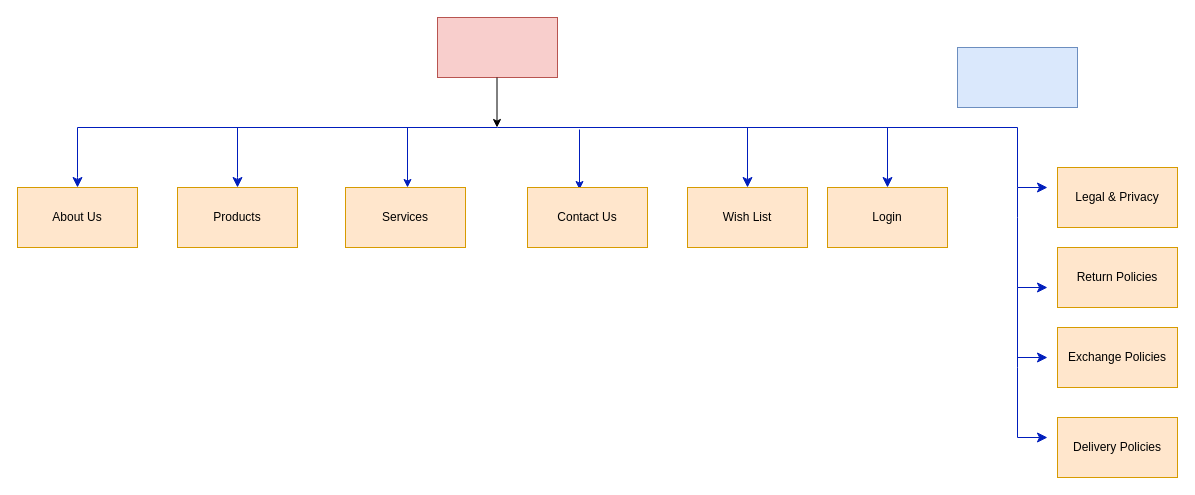
Image size: 1195x495. Some labels were removed from this diagram. Here are the shapes that lost their labels. From the top down, the centre of each, then its label:
At (x=497, y=47): "Home Page".
At (x=1017, y=77): "Footer".
